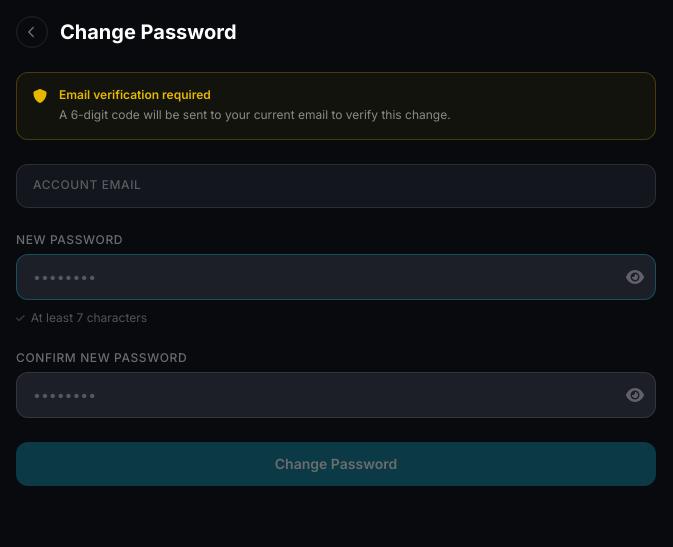
Scenario: ProfileConfigurationChangePasswordPage — request step › shows an error message when the request fails
This screenshot has width=673, height=547.
In the 1st password field with placeholder "••••••••": point(336, 276) [16,254,656,300], type "longenough"
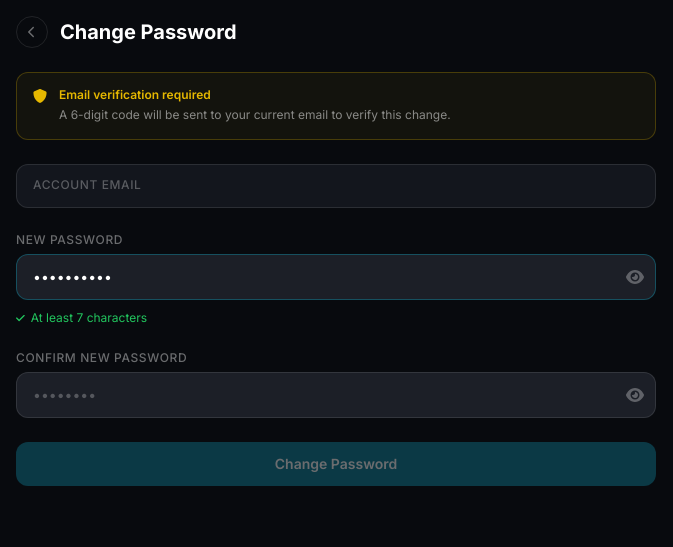
In the password field with placeholder "••••••••": point(336, 394) [16,372,656,418], type "longenough"
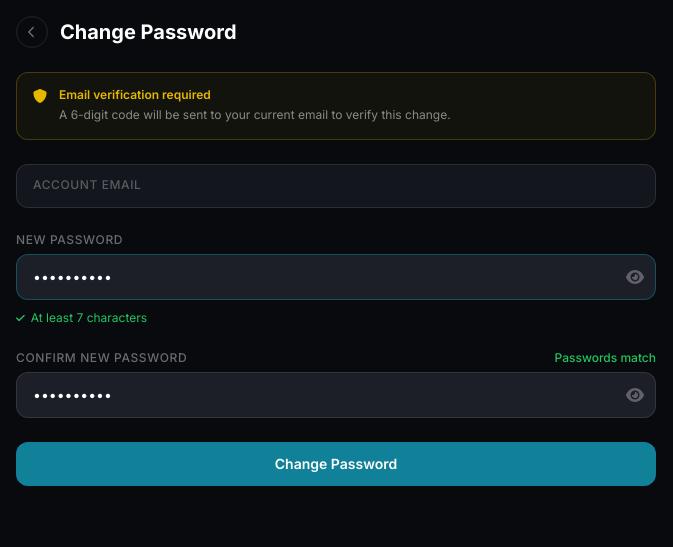
Click the button "Change Password": point(336, 464) [16,442,656,486]
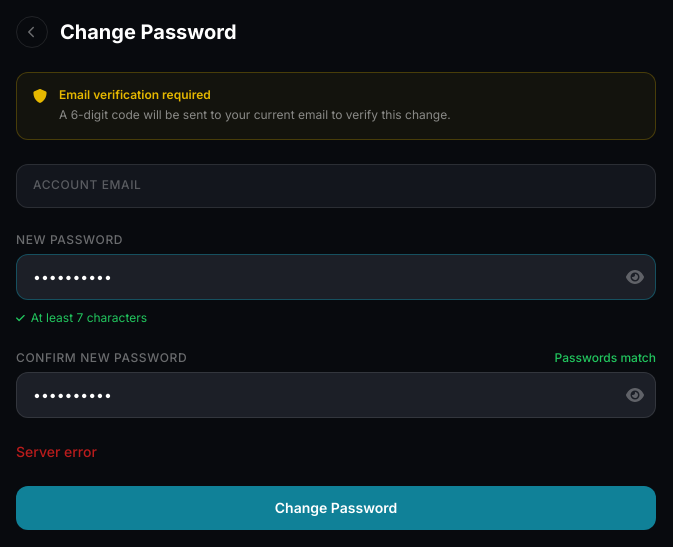
Expected: the text "Server error" is shown, [16,442,97,460]
